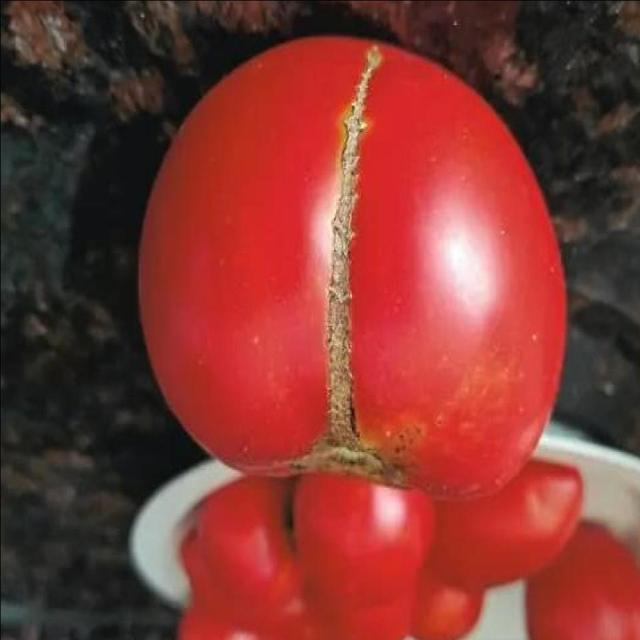Healthy Fruit: (48, 49, 380, 402)
